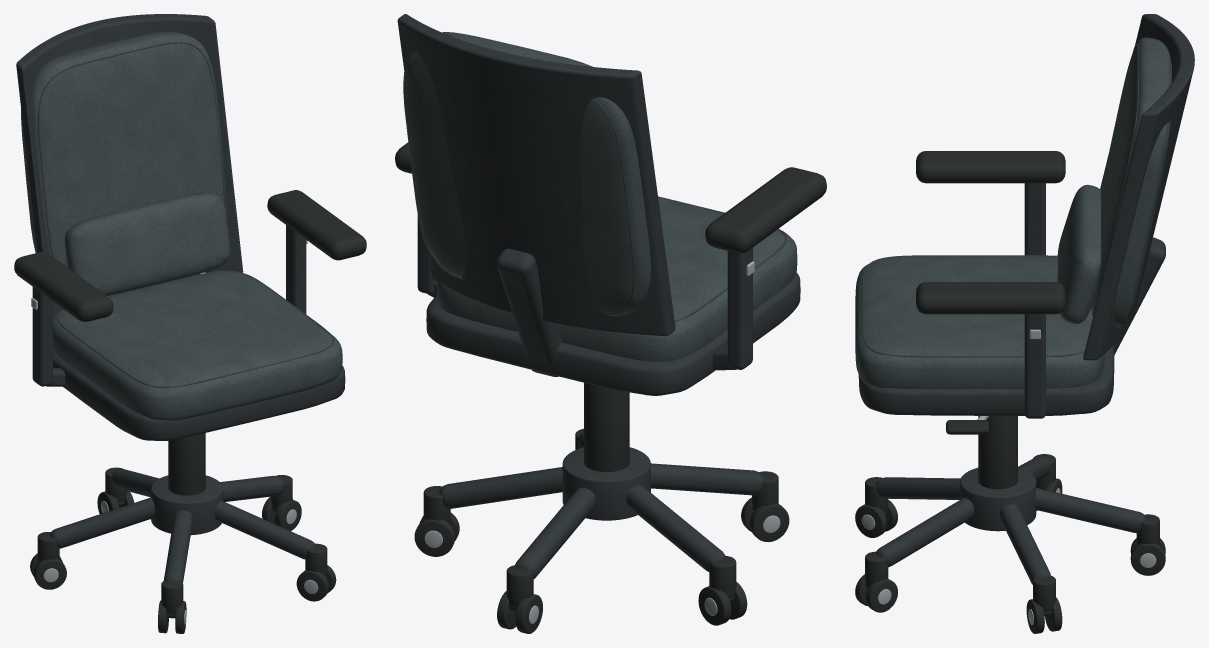
Rendered from office_chair.glb.
The picture shows the model from 3 angles, left to right: view 1: azimuth 30°, elevation 25°; view 2: azimuth 150°, elevation 25°; view 3: azimuth 270°, elevation 25°; orthographic projection. The views are drawn at different scales.
Parts seen in each view (by area): view 1: Back | contoured upholstered pad, Seat | waterfall upholstered pad, Back | lumbar support, Back | curved ergonomic shell, Seat | molded shell, Arm | padded top.001, Arm | padded top, Base | cast central hub, Base | tapered radial spoke.001, Lift | telescoping outer cover, Base | tapered radial spoke.003, Arm | height-adjustable post (+12 smaller); view 2: Back | curved ergonomic shell, Back | contoured upholstered pad, Seat | waterfall upholstered pad, Seat | molded shell, Arm | padded top, Back | central support, Base | cast central hub, Lift | telescoping outer cover, Base | tapered radial spoke.004, Arm | height-adjustable post, Base | tapered radial spoke.001, Base | tapered radial spoke.002 (+11 smaller); view 3: Seat | waterfall upholstered pad, Back | contoured upholstered pad, Back | curved ergonomic shell, Seat | molded shell, Arm | padded top, Arm | padded top.001, Back | lumbar support, Base | cast central hub, Lift | telescoping outer cover, Base | tapered radial spoke, Base | tapered radial spoke.003, Arm | height-adjustable post.001 (+14 smaller).
Boxes of the visible parts, x1,y1,x2,y2 form: Back | contoured upholstered pad: (21, 31, 226, 266); Seat | waterfall upholstered pad: (53, 271, 342, 420); Back | lumbar support: (65, 192, 230, 295); Back | curved ergonomic shell: (16, 14, 243, 318); Seat | molded shell: (53, 352, 345, 440); Arm | padded top.001: (267, 190, 366, 260); Arm | padded top: (14, 252, 113, 321); Base | cast central hub: (151, 475, 223, 535); Base | tapered radial spoke.001: (50, 497, 154, 548); Lift | telescoping outer cover: (168, 433, 205, 495); Base | tapered radial spoke.003: (215, 500, 315, 559); Arm | height-adjustable post: (32, 287, 52, 386); Back | curved ergonomic shell: (397, 14, 675, 336); Back | contoured upholstered pad: (403, 32, 650, 316); Seat | waterfall upholstered pad: (437, 197, 797, 361); Seat | molded shell: (426, 272, 800, 395); Arm | padded top: (705, 167, 826, 253); Back | central support: (496, 248, 561, 376); Base | cast central hub: (562, 447, 650, 520); Lift | telescoping outer cover: (584, 382, 629, 471); Base | tapered radial spoke.004: (439, 467, 562, 508); Arm | height-adjustable post: (727, 247, 752, 369); Base | tapered radial spoke.001: (626, 485, 725, 571); Base | tapered radial spoke.002: (651, 463, 764, 495); Seat | waterfall upholstered pad: (855, 255, 1104, 388); Back | contoured upholstered pad: (1092, 37, 1171, 327); Back | curved ergonomic shell: (1083, 14, 1194, 360); Seat | molded shell: (858, 346, 1114, 415); Arm | padded top: (916, 151, 1065, 183); Arm | padded top.001: (916, 282, 1065, 314); Back | lumbar support: (1057, 184, 1101, 324); Base | cast central hub: (959, 467, 1036, 531); Lift | telescoping outer cover: (978, 416, 1017, 489); Base | tapered radial spoke: (1035, 488, 1145, 533); Base | tapered radial spoke.003: (876, 497, 974, 567); Arm | height-adjustable post.001: (1024, 314, 1045, 418).
Bounding box in the file's own units: 0.731 × 1.17 × 0.7015.
Materials: 5 (2 with a texture image).
